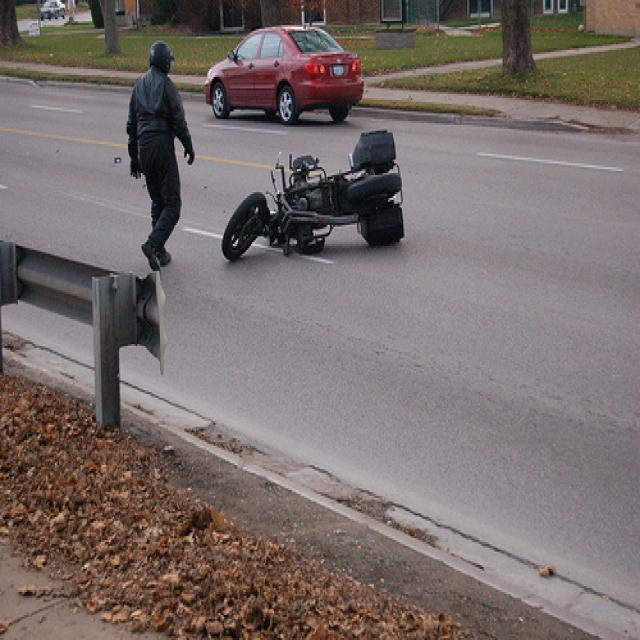light_vehicle: (202, 19, 364, 125)
